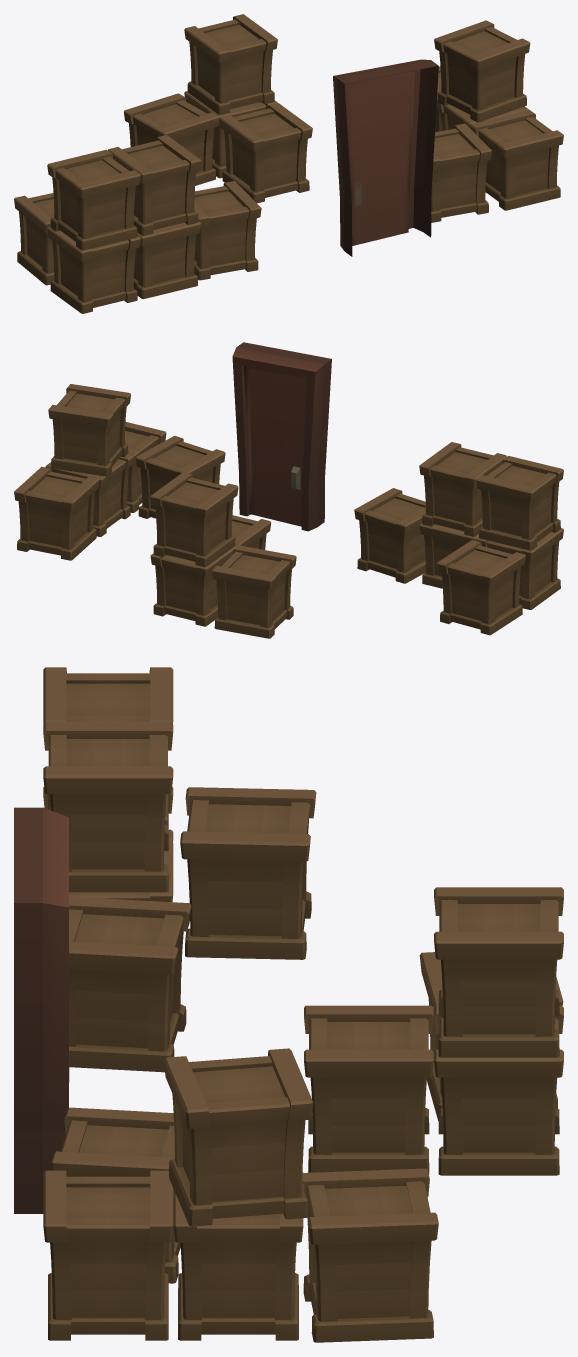
The model's file is SM_Setdressing_Level1_Small_Ledge.fbx.
3 renders of one model, top to bottom at view 1: azimuth 30°, elevation 25°; view 2: azimuth 150°, elevation 25°; view 3: azimuth 270°, elevation 25°, orthographic. The views are drawn at different scales.
Parts seen in each view (by area): view 1: SM_Setdressing_Level1_Small_Ledge; view 2: SM_Setdressing_Level1_Small_Ledge; view 3: SM_Setdressing_Level1_Small_Ledge.
Part boxes in pixels (box(x1,y1,x2,y2)): SM_Setdressing_Level1_Small_Ledge: box(14, 14, 563, 313); SM_Setdressing_Level1_Small_Ledge: box(14, 342, 563, 638); SM_Setdressing_Level1_Small_Ledge: box(14, 667, 563, 1342).
Size of the model in its own units: 807 by 422 by 277.
